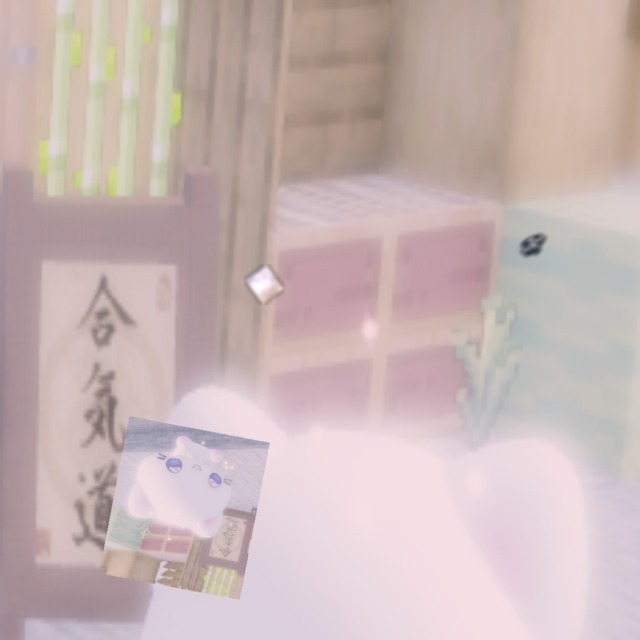urso_branco: (99, 416, 270, 600), (244, 264, 285, 305)
urso_preto: (516, 226, 553, 263)
